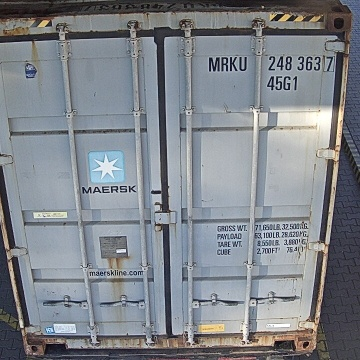serial_id: (209, 55, 334, 71)
